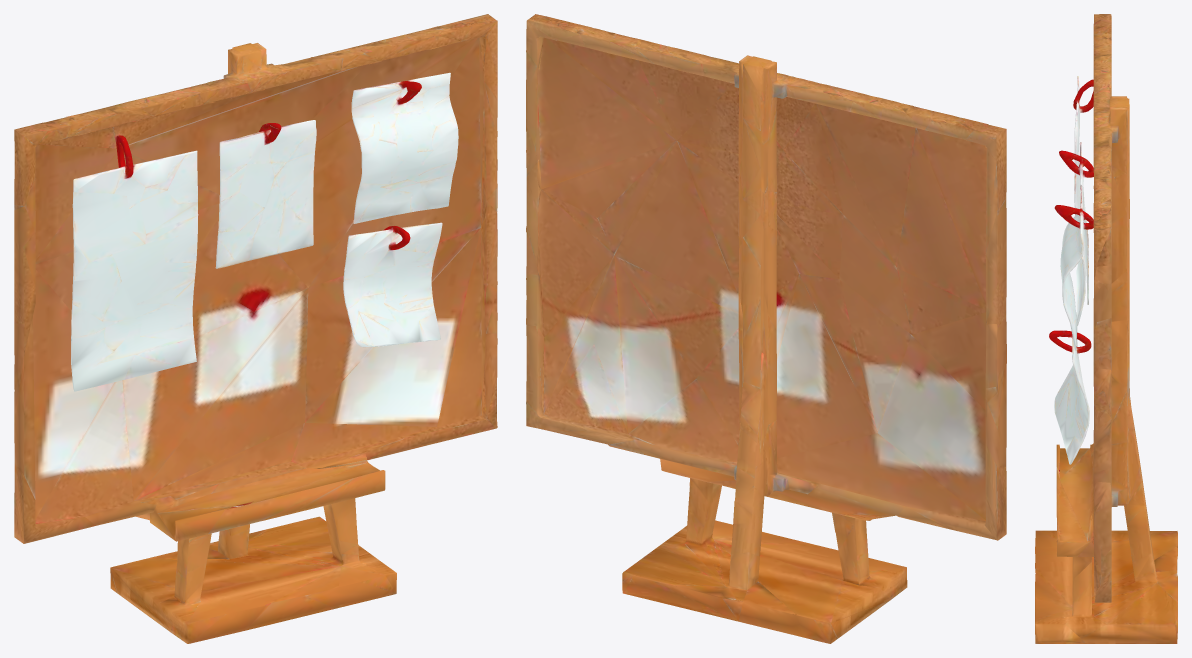
File: prop-case-board.glb
3 views of the same model, side by side, from view 1: azimuth 30°, elevation 25°; view 2: azimuth 150°, elevation 25°; view 3: azimuth 270°, elevation 25° (orthographic). The views are drawn at different scales.
Bounding box in the file's own units: 1.77 × 1.91 × 0.5007.
1 material, 1 textured.
